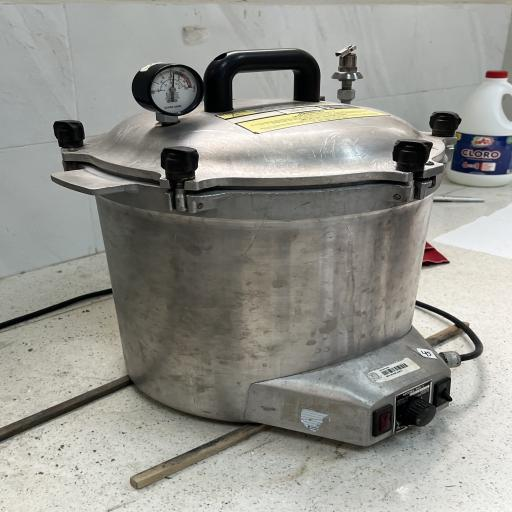Autoclave: (38, 40, 468, 454)
